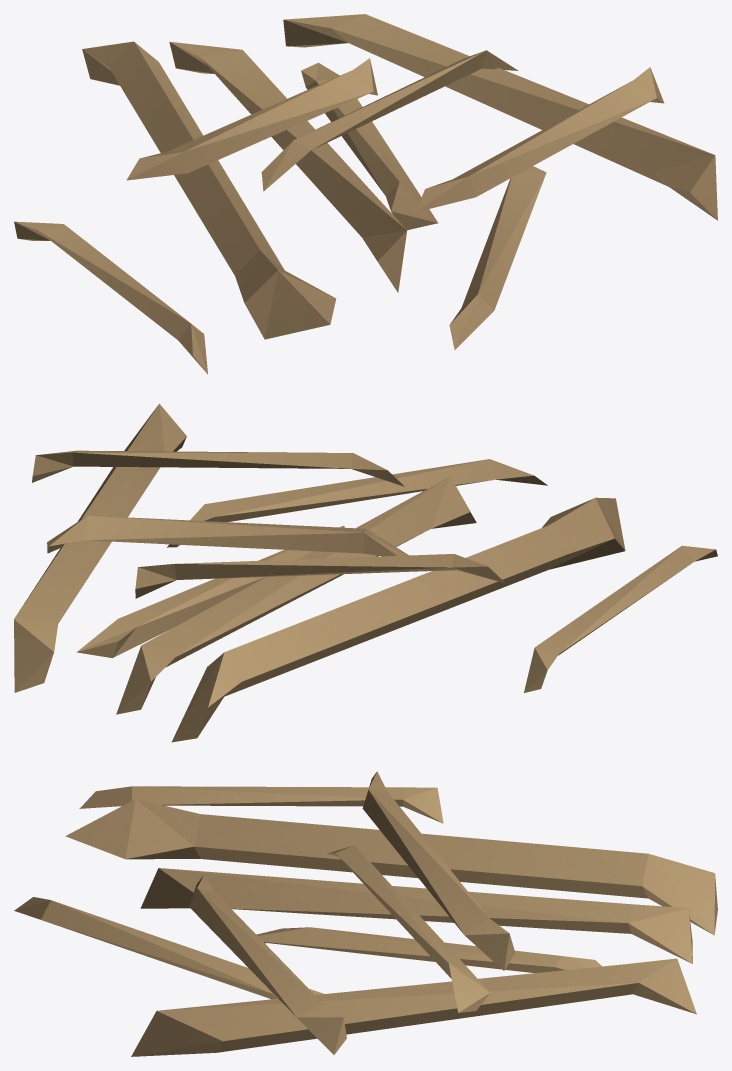
Rendered from Skull_2D_LOD.fbx.
3 renders of one model, top to bottom at view 1: azimuth 30°, elevation 25°; view 2: azimuth 150°, elevation 25°; view 3: azimuth 270°, elevation 25°, orthographic. The views are drawn at different scales.
Visible parts, largest first — view 1: polySurface1324; view 2: polySurface1324; view 3: polySurface1324.
Part boxes in pixels (bbox=[...]): polySurface1324: bbox=[14, 14, 717, 374]; polySurface1324: bbox=[14, 403, 717, 742]; polySurface1324: bbox=[14, 771, 717, 1056].
Size of the model in its own units: 2.43 by 0.3703 by 2.59.
